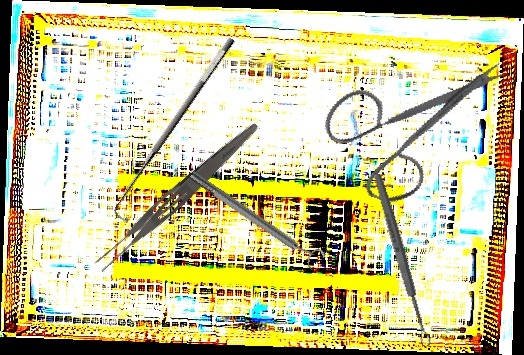Dressing Forceps: (90, 114, 263, 277)
Fixation Ring: (184, 163, 328, 274)
Hook Surgical: (103, 35, 249, 226)
Iris Scissors: (305, 12, 511, 227)
Surgical Spoon: (371, 172, 433, 349)
